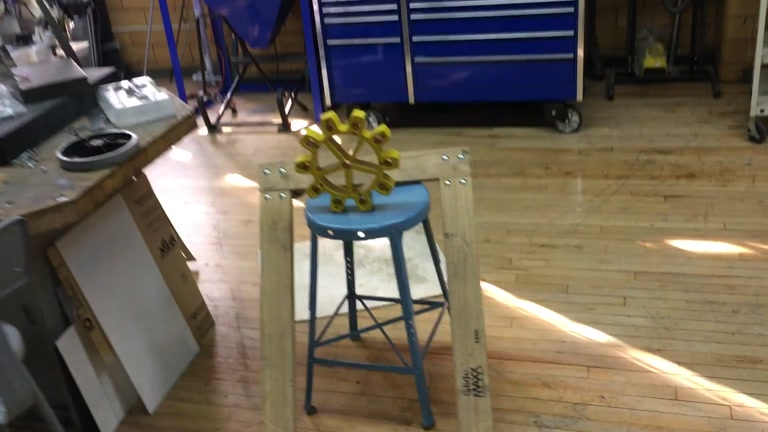gear: (294, 109, 403, 214)
